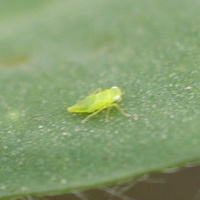insect: (67, 86, 130, 123)
